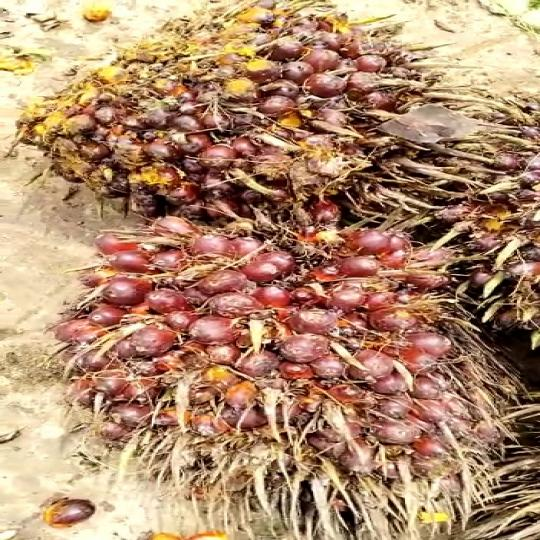masak: (55, 207, 528, 522), (19, 0, 470, 249)
